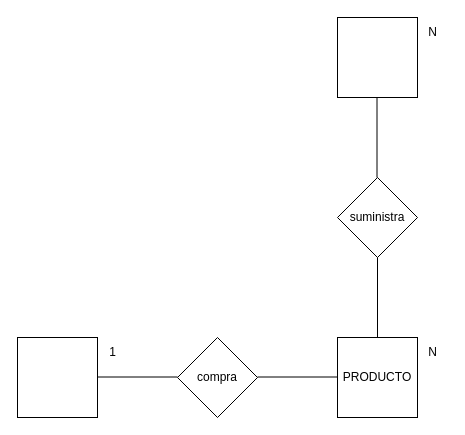
Image size: 465x435. Some labels were removed from this diagram. Each missing label, with the centre of its shape:
"CLIENTE" belongs at (x=57, y=377).
"PROVEEDOR" belongs at (x=377, y=57).
